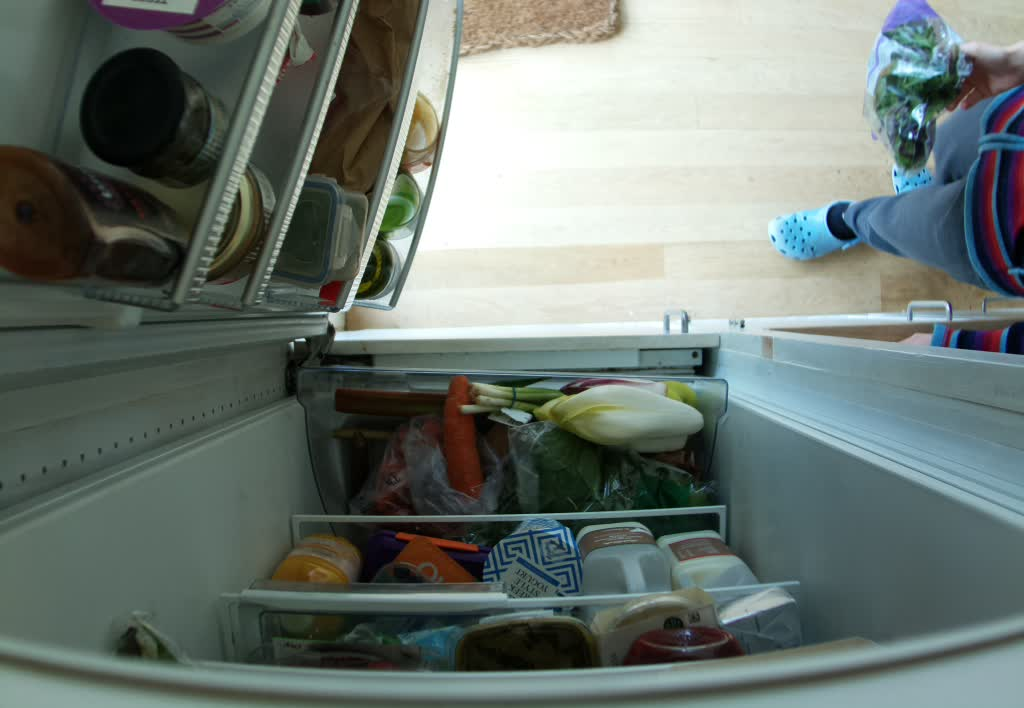salad: (859, 3, 982, 187), (533, 382, 703, 459)
